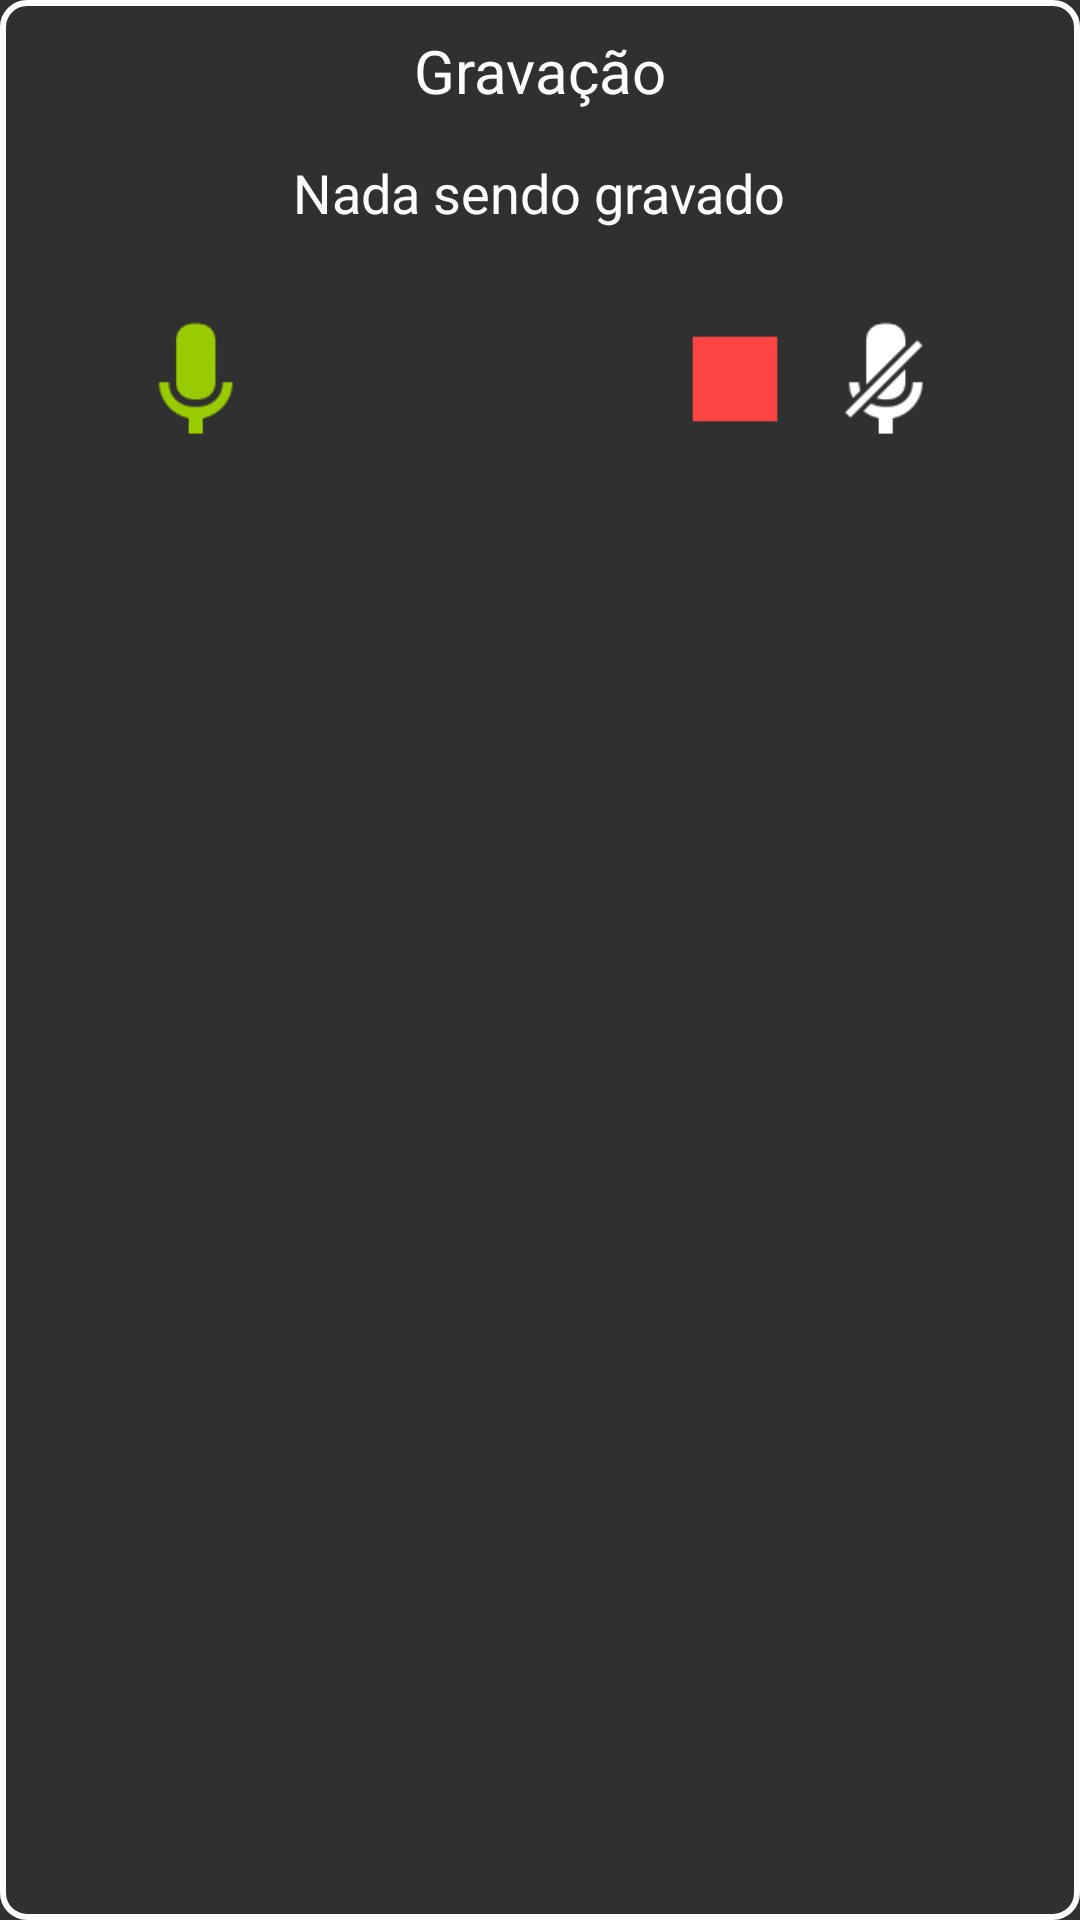

Where icons sit on this 1080 × 1920 app screen, as (x1, y1, x2, y2):
mic: (159, 322, 233, 434)
micoff: (845, 322, 923, 434)
playback stop: (692, 336, 778, 422)
